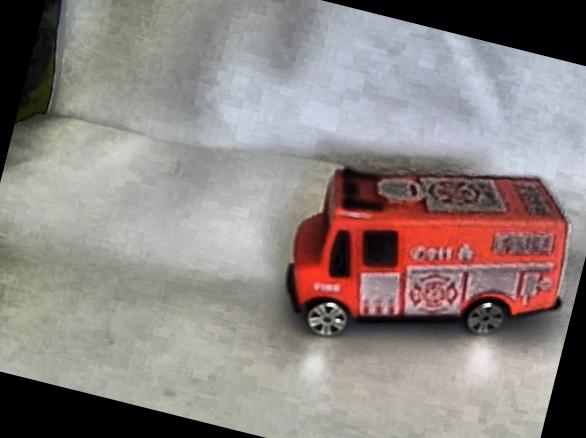fire_truck: (263, 116, 586, 391)
